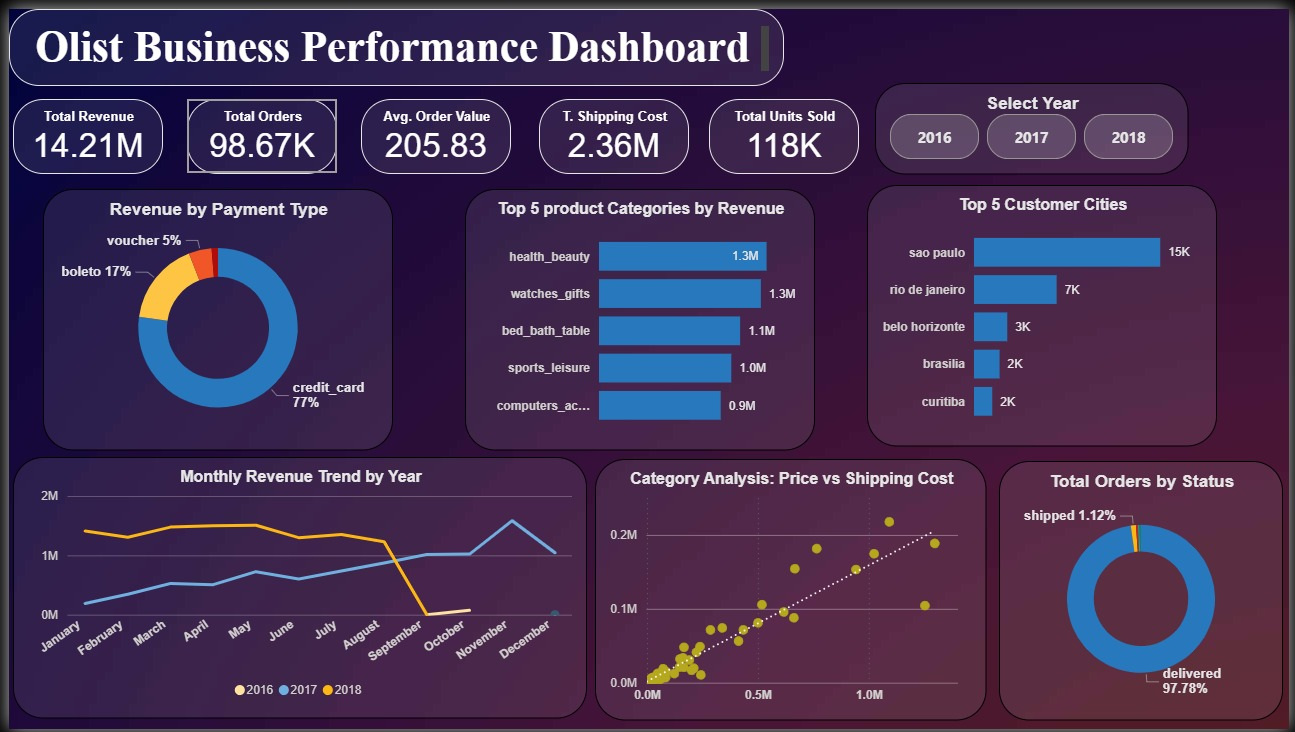

This screenshot's page, from the dashboard's own definition file:
{"tool":"powerbi","page":{"name":"Page 1","canvas":[1280,720],"ordinal":0},"visuals":[{"type":"card","title":"Total Revenue","fields":{"Values":["Sum(dashboard_dataset.price)"]},"box":[4.1,89.3,150.1,75.1],"z":0},{"type":"card","title":"Total Orders","fields":{"Values":["Count(dashboard_dataset.order_id)"]},"box":[178.5,89.3,150.1,75.1],"z":1000},{"type":"clusteredBarChart","title":"Top 5 Customer Cities","fields":{"Category":["dashboard_dataset.customer_city"],"Y":["Count(dashboard_dataset.order_id)"]},"box":[858.3,176.7,350,261.7],"z":2000},{"type":"donutChart","title":"Revenue by Payment Type","fields":{"Category":["dashboard_dataset.payment_type"],"Y":["Sum(dashboard_dataset.price)"]},"box":[33.3,180,350,261.7],"z":3000},{"type":"card","title":"Avg. Order Value","fields":{"Values":["dashboard_dataset.Average Order Value new"]},"box":[353,89.3,150.1,75.1],"z":4000},{"type":"lineChart","title":"Monthly Revenue Trend by Year","fields":{"Category":["dashboard_dataset.month_name"],"Y":["dashboard_dataset.Total Revenue"],"Series":["dashboard_dataset.order_year"]},"box":[4.1,448.3,574.1,261.7],"z":5000},{"type":"clusteredBarChart","title":"Top 5 product Categories by Revenue","fields":{"Y":["Sum(dashboard_dataset.price)"],"Category":["dashboard_dataset.product_category_name"]},"box":[456.7,180,350,261.7],"z":6000},{"type":"card","title":"T. Shipping Cost","fields":{"Values":["Sum(dashboard_dataset.freight_value)"]},"box":[529.4,89.3,150.1,75.1],"z":7000},{"type":"card","title":"Total Units Sold","fields":{"Values":["dashboard_dataset.Total Items Sold"]},"box":[699.8,89.3,150.1,75.1],"z":8000},{"type":"advancedSlicerVisual","title":"Select Year","fields":{"Values":["dashboard_dataset.order_purchase_timestamp.Variation.Date Hierarchy.Year"]},"box":[866.7,73.3,313.3,91.7],"z":9000},{"type":"textbox","box":[0,0,774.9,77.1],"z":10000},{"type":"donutChart","title":"Total Orders by Status","fields":{"Category":["dashboard_dataset.order_status"],"Y":["dashboard_dataset.Total Orders"]},"box":[989.9,452.4,284,259.7],"z":11000},{"type":"scatterChart","title":"Category Analysis: Price vs Shipping Cost","fields":{"Category":["dashboard_dataset.product_category_name"],"X":["Sum(dashboard_dataset.price)"],"Y":["Sum(dashboard_dataset.freight_value)"]},"box":[586.2,450.3,391.5,261.7],"z":11001}]}

Visuals, with their boxes in screenshot pixels (x1, y1, x2, y2), scaled from the page's 1280x720 canvas onto the 1295x732 screenshot:
"Total Revenue" card: <box>4,91,156,167</box>
"Total Orders" card: <box>181,91,332,167</box>
"Top 5 Customer Cities" clusteredBarChart: <box>868,180,1222,446</box>
"Revenue by Payment Type" donutChart: <box>34,183,388,449</box>
"Avg. Order Value" card: <box>357,91,509,167</box>
"Monthly Revenue Trend by Year" lineChart: <box>4,456,585,722</box>
"Top 5 product Categories by Revenue" clusteredBarChart: <box>462,183,816,449</box>
"T. Shipping Cost" card: <box>536,91,687,167</box>
"Total Units Sold" card: <box>708,91,860,167</box>
"Select Year" advancedSlicerVisual: <box>877,75,1194,168</box>
textbox: <box>0,0,784,78</box>
"Total Orders by Status" donutChart: <box>1002,460,1289,724</box>
"Category Analysis: Price vs Shipping Cost" scatterChart: <box>593,458,989,724</box>
